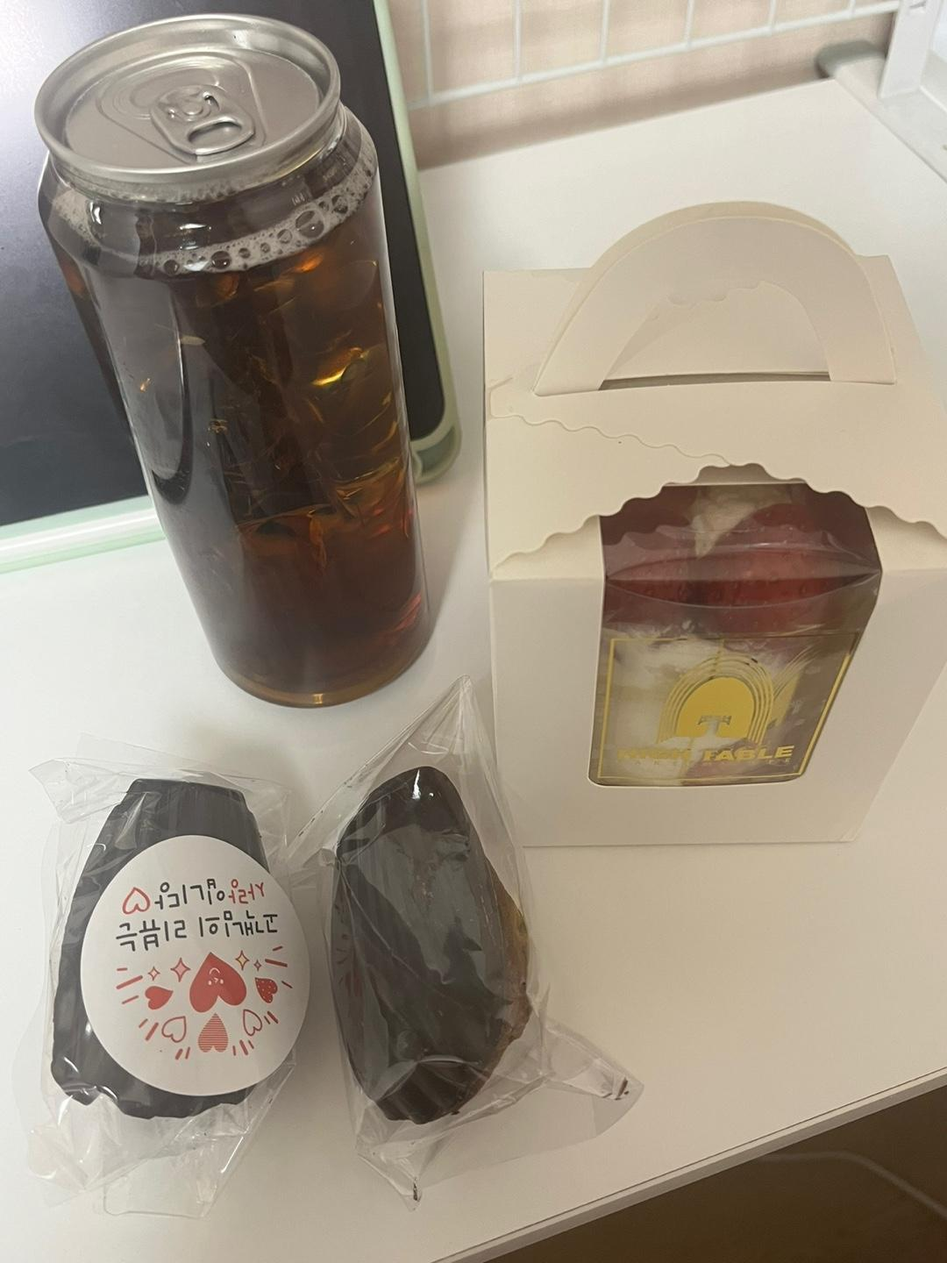Bottle: (36, 14, 428, 706)
